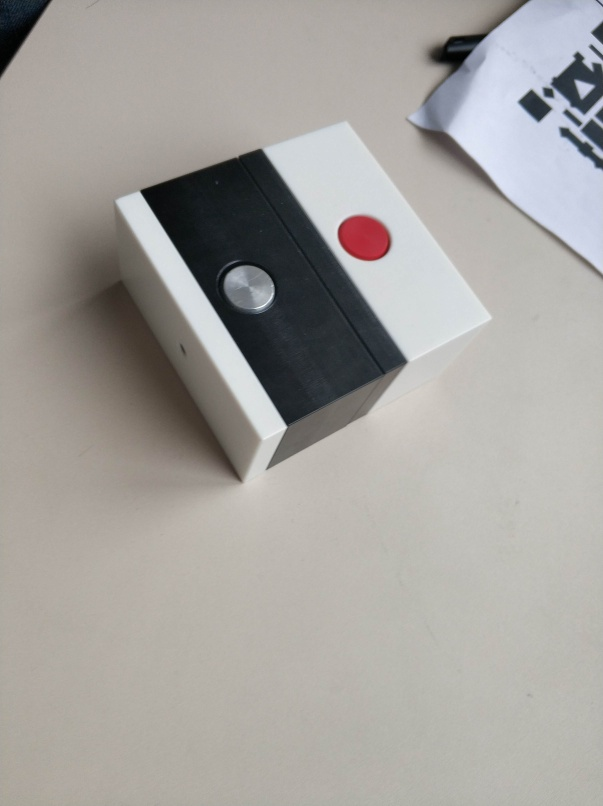black+white+red: (239, 116, 496, 377)
white+black+silver: (107, 154, 379, 487)
